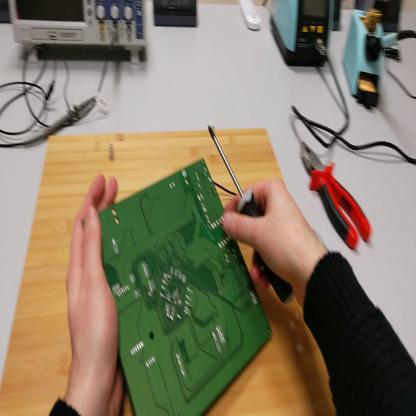hand: (65, 172, 124, 393), (220, 178, 316, 291)
low voltage board: (94, 153, 270, 415)
oscilloscope: (9, 3, 148, 65)
oscilloscope probe tip: (24, 94, 99, 151)
pliers: (299, 139, 373, 250)
screwdriver-: (210, 126, 295, 304)
socket: (375, 3, 403, 26), (333, 3, 343, 33), (2, 2, 12, 25)
welder base: (346, 3, 387, 111)
welder probe tip: (373, 30, 415, 54)
welder station: (271, 2, 332, 65)
working area: (2, 137, 339, 415)
